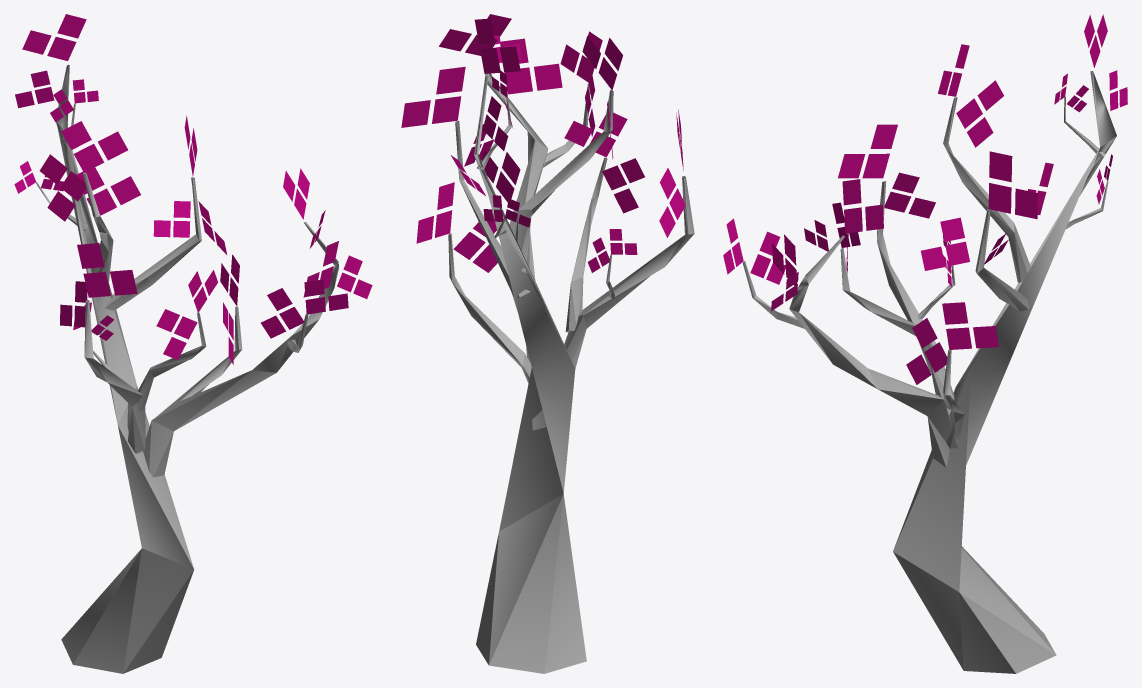
The model's file is Deeptree_LOD-02.fbx.
The picture shows the model from 3 angles, left to right: view 1: azimuth 30°, elevation 25°; view 2: azimuth 150°, elevation 25°; view 3: azimuth 270°, elevation 25°; orthographic projection. The views are drawn at different scales.
Visible parts, largest first — view 1: Deeptree_LOD_02; view 2: Deeptree_LOD_02; view 3: Deeptree_LOD_02.
Part boxes in pixels (x1,y1,x2,y2): Deeptree_LOD_02: (14, 14, 372, 673); Deeptree_LOD_02: (401, 14, 694, 673); Deeptree_LOD_02: (723, 14, 1127, 673).
Size of the model in its own units: 86.88 by 213 by 122.
